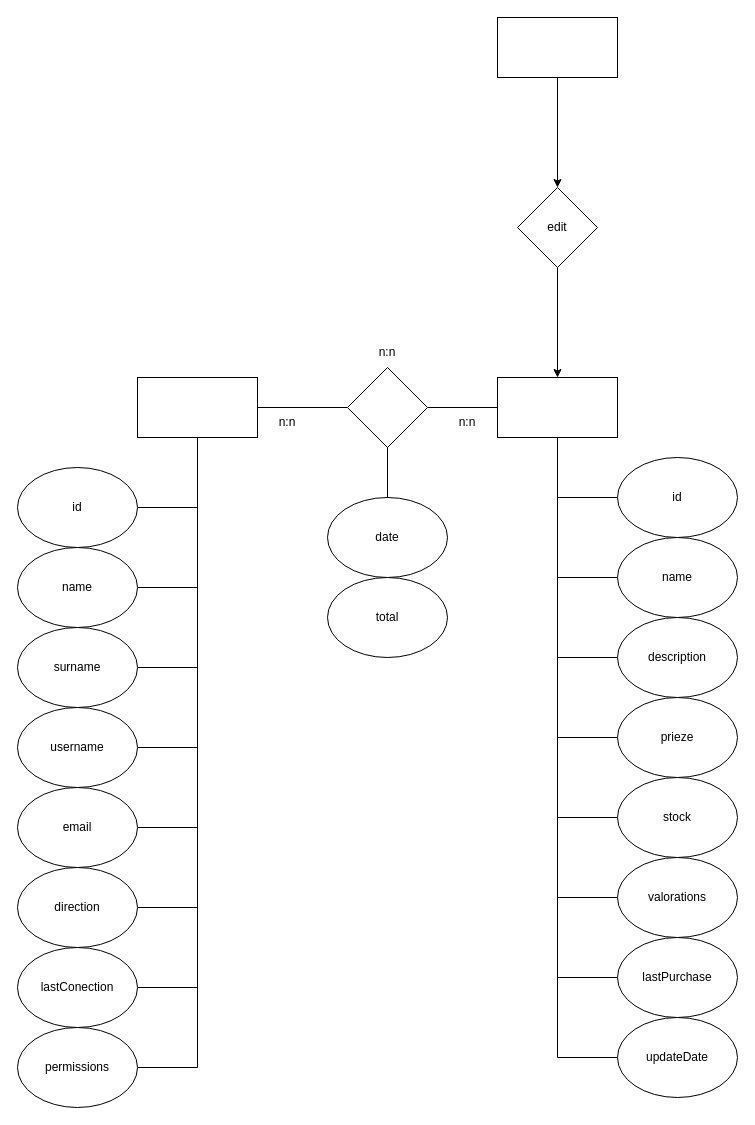
This 755x1125 diagram has some shape labels left out. Each missing label, with the centre of its shape:
"Buy" belongs at point 387,407.
"employees" belongs at point 557,47.
"Products" belongs at point 557,407.
"Users" belongs at point 197,407.
